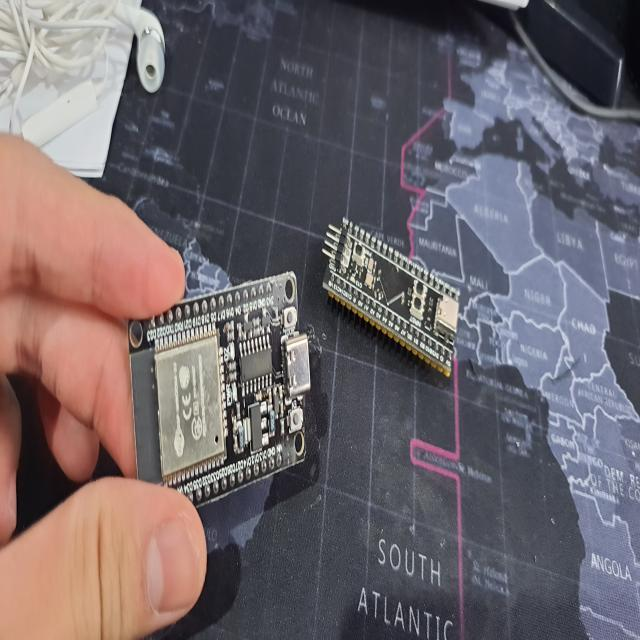ESP32: (130, 272, 311, 505)
STM32: (323, 220, 459, 377)
